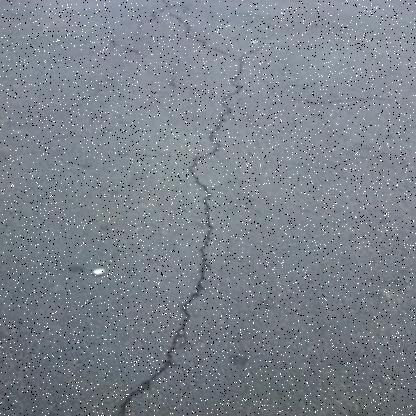Cracks: (97, 0, 281, 415)
